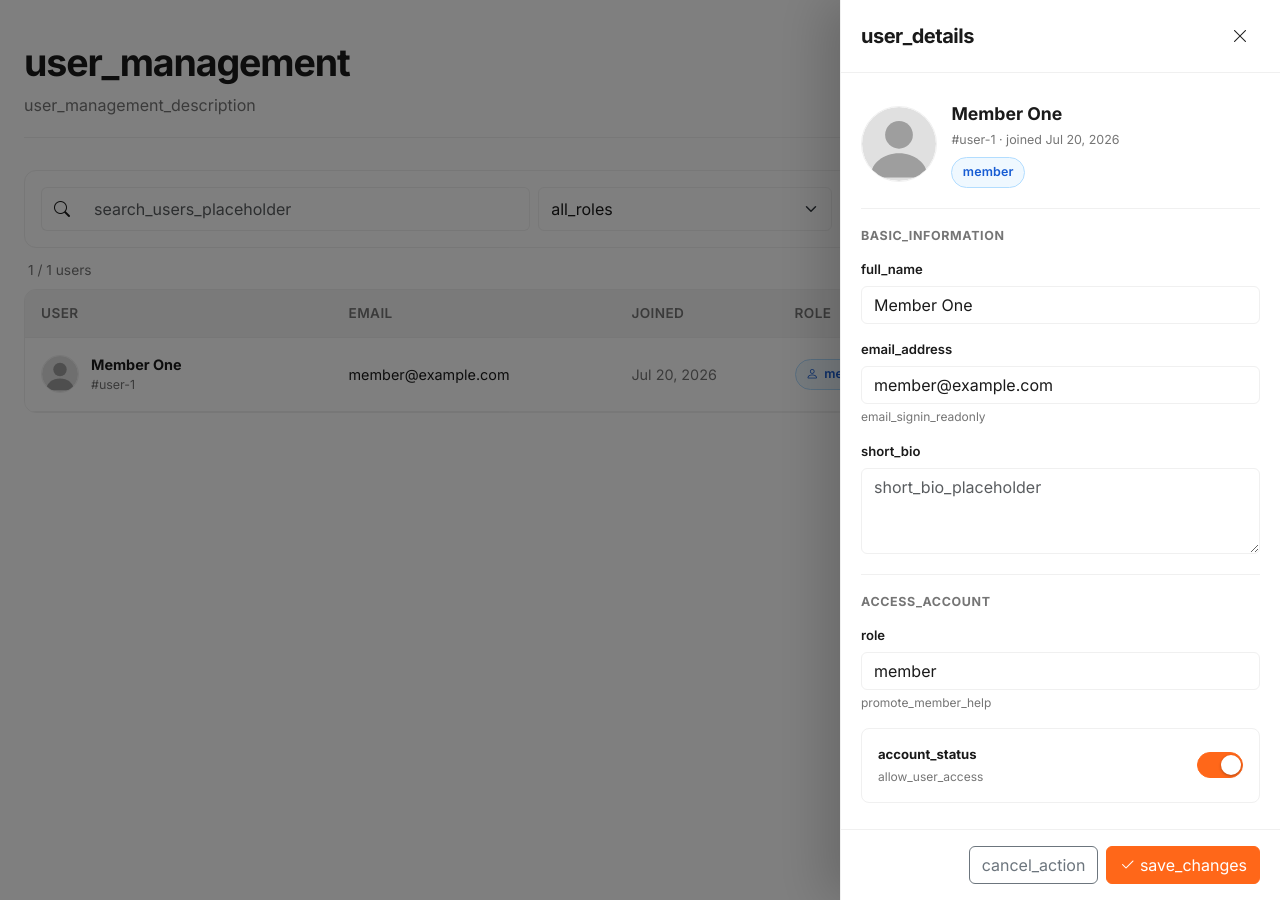
Test case: AdminUsersComponent › closes the details drawer from the close button
The image size is (1280, 900).
Click the button with class "close-button" at (1240, 36), box x1=1220 y1=16 x2=1260 y2=56
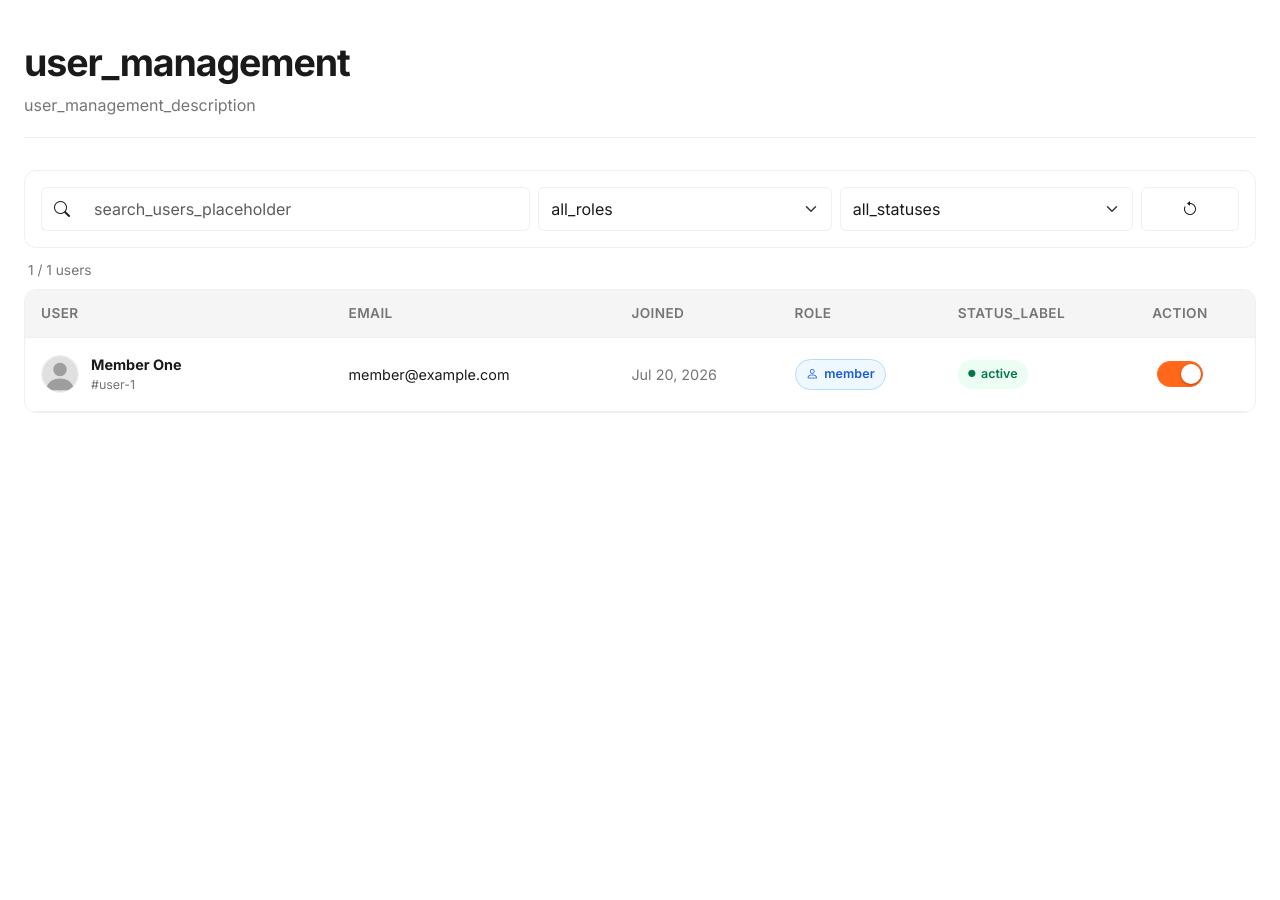
Now the dialog with class "user-offcanvas" is gone
